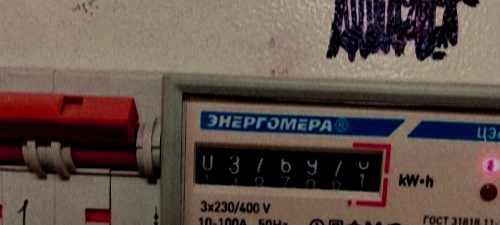0: (200, 149, 214, 171)
1: (356, 170, 368, 190)
3: (228, 153, 242, 175)
6: (279, 150, 294, 174)
7: (253, 151, 268, 175), (331, 155, 346, 178)
9: (305, 153, 319, 175)
screen: (185, 128, 396, 209)
